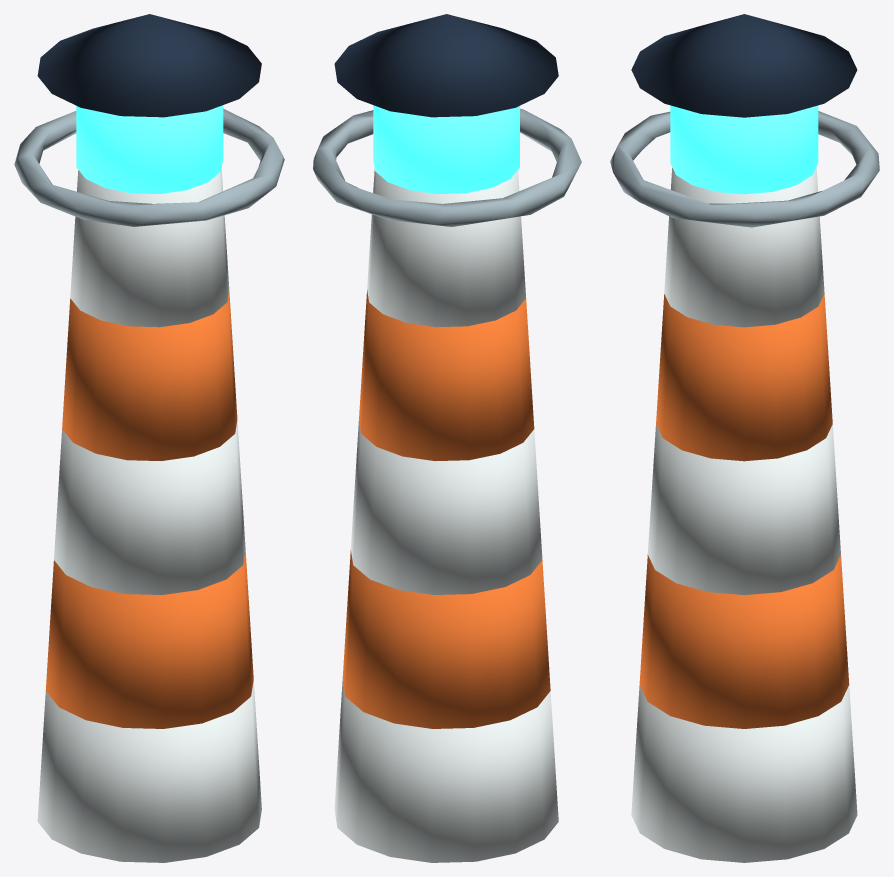
The model's file is Lighthouse_LOD2.glb.
The picture shows the model from 3 angles, left to right: view 1: azimuth 30°, elevation 25°; view 2: azimuth 150°, elevation 25°; view 3: azimuth 270°, elevation 25°; orthographic projection.
Visible parts, largest first — view 1: Painted tower, Painted tower.001, Painted tower.002, Painted tower.003, Painted tower.004, Roof, Lantern, Gallery; view 2: Painted tower, Painted tower.001, Painted tower.002, Painted tower.003, Painted tower.004, Roof, Lantern, Gallery; view 3: Painted tower, Painted tower.001, Painted tower.002, Painted tower.003, Painted tower.004, Roof, Lantern, Gallery.
Part boxes in pixels (x1,y1,x2,y2): Painted tower: (37,680,261,862); Painted tower.001: (45,550,253,728); Painted tower.002: (54,420,245,594); Painted tower.003: (62,290,237,460); Painted tower.004: (70,170,229,327); Roof: (37,14,261,117); Lantern: (76,105,223,193); Gallery: (14,108,284,226); Painted tower: (334,681,558,862); Painted tower.001: (342,550,550,728); Painted tower.002: (350,421,542,594); Painted tower.003: (359,290,534,461); Painted tower.004: (367,169,525,327); Roof: (334,14,558,117); Lantern: (373,105,519,193); Gallery: (313,108,581,226); Painted tower: (631,685,857,862); Painted tower.001: (639,554,849,728); Painted tower.002: (648,424,840,595); Painted tower.003: (656,294,832,461); Painted tower.004: (664,167,824,327); Roof: (631,14,857,117); Lantern: (670,105,818,194); Gallery: (610,111,879,227).
Size of the model in its own units: 1.32 by 4.3 by 1.31.
